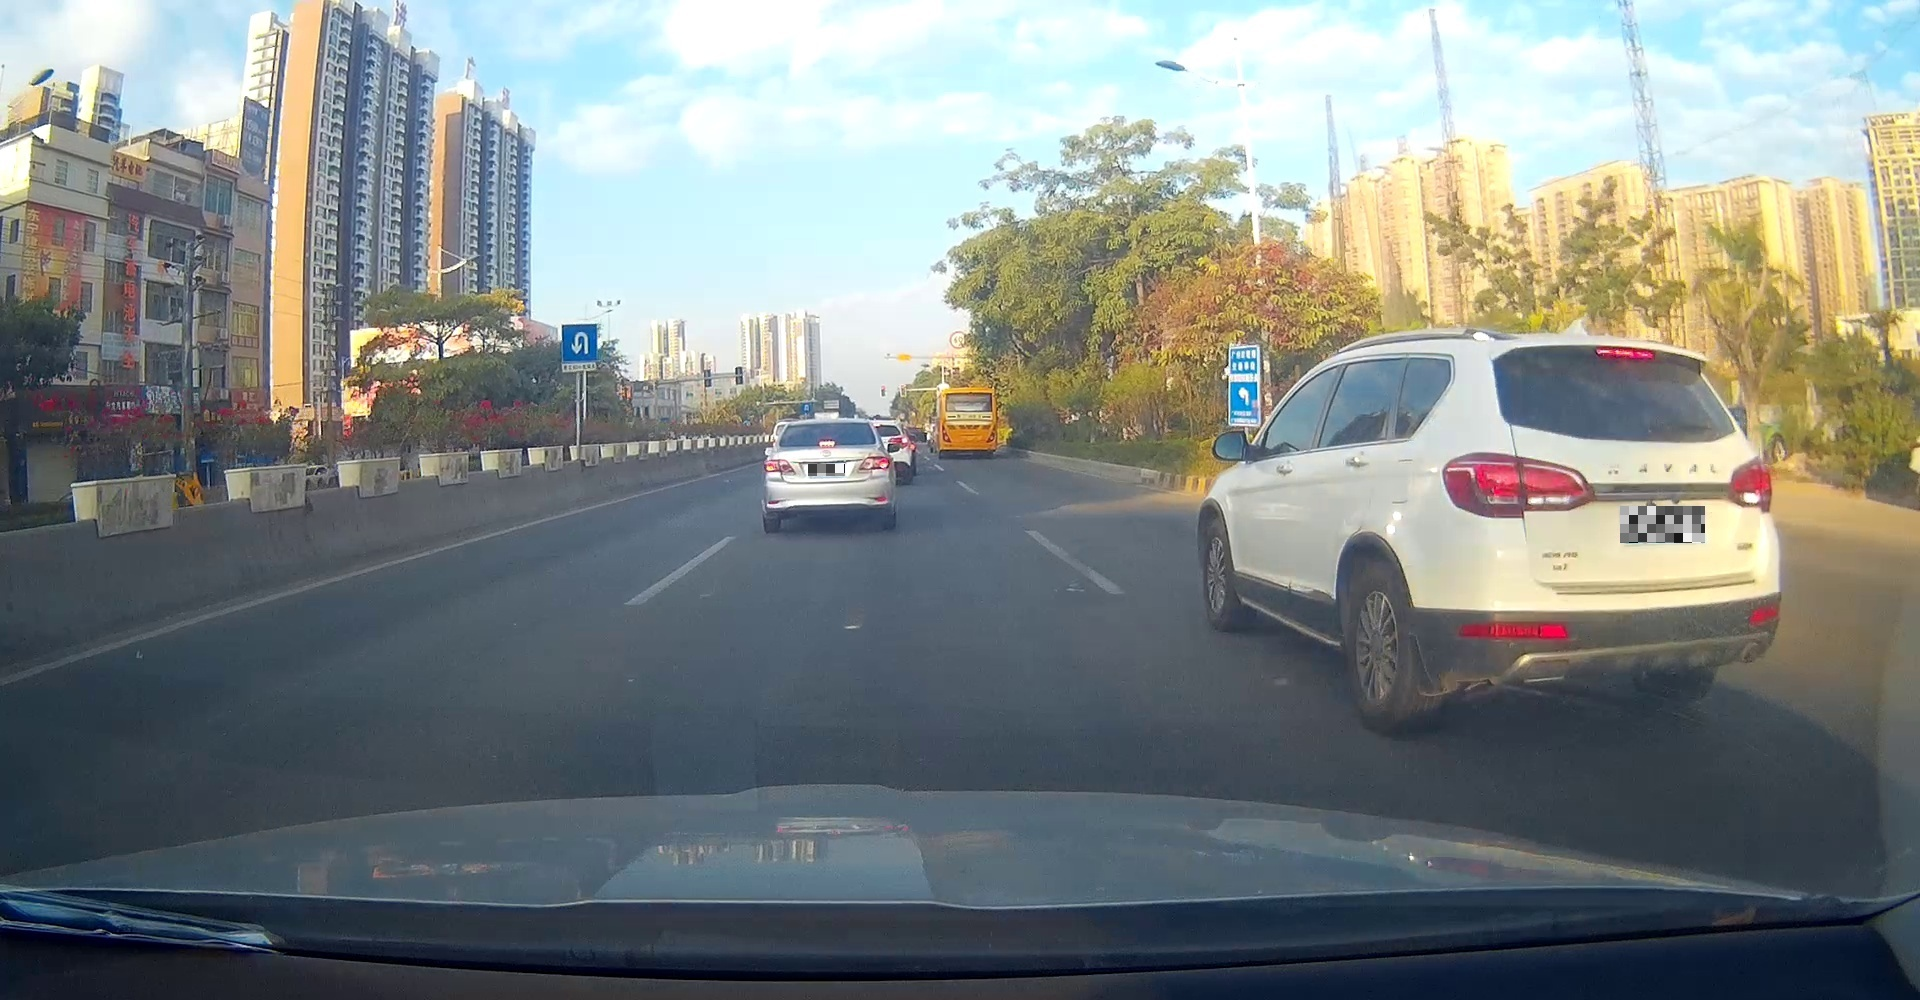L_light: (1441, 451, 1595, 519), (762, 459, 797, 476)
R_light: (1730, 456, 1771, 513), (858, 456, 891, 470)
T_light: (1595, 346, 1655, 359), (818, 440, 836, 445)
day-brake: (1443, 332, 1782, 732), (763, 418, 891, 532)
plate_1: (808, 464, 844, 476)
plate_2: (1620, 506, 1705, 543)
